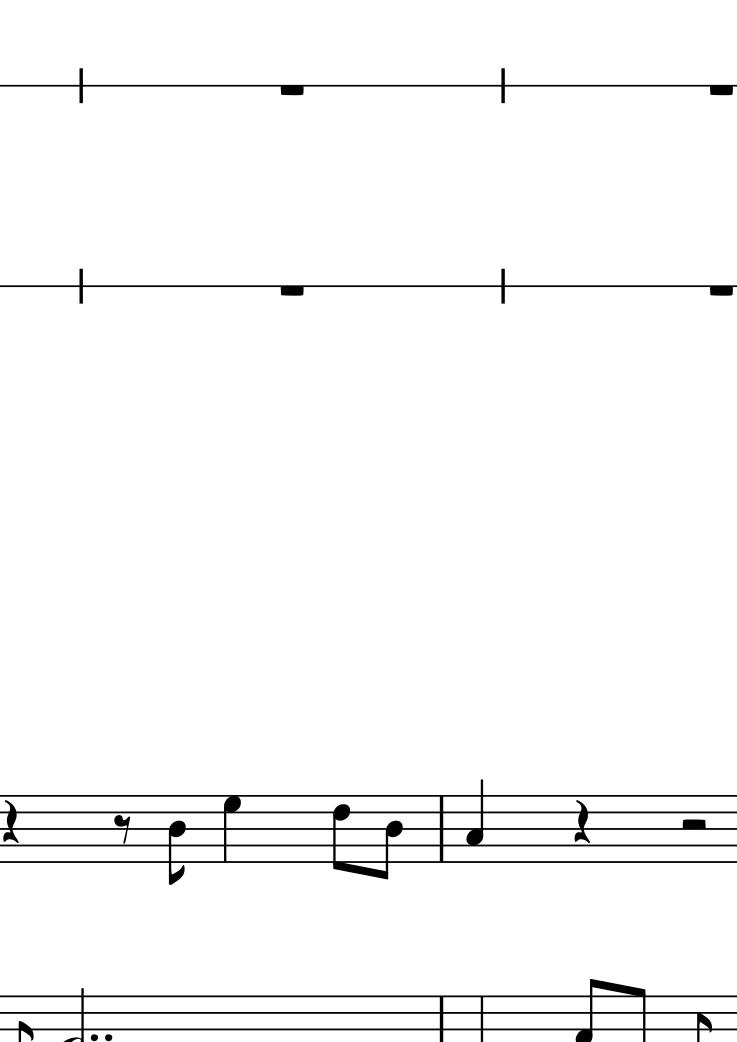4_3: (464, 778, 487, 864)
4_7: (220, 795, 246, 866)
8_4: (376, 793, 404, 883), (166, 794, 191, 886)
8_6: (331, 792, 355, 874)
Double_dot: (87, 1032, 114, 1042)
Rests1: (697, 81, 736, 100), (703, 280, 737, 299), (279, 81, 306, 102), (277, 283, 309, 299)
Rests2: (679, 818, 712, 837)
Rests4: (572, 797, 591, 848), (3, 798, 20, 846)
Rests8: (112, 812, 137, 846)
Single_barline: (433, 796, 450, 861)
